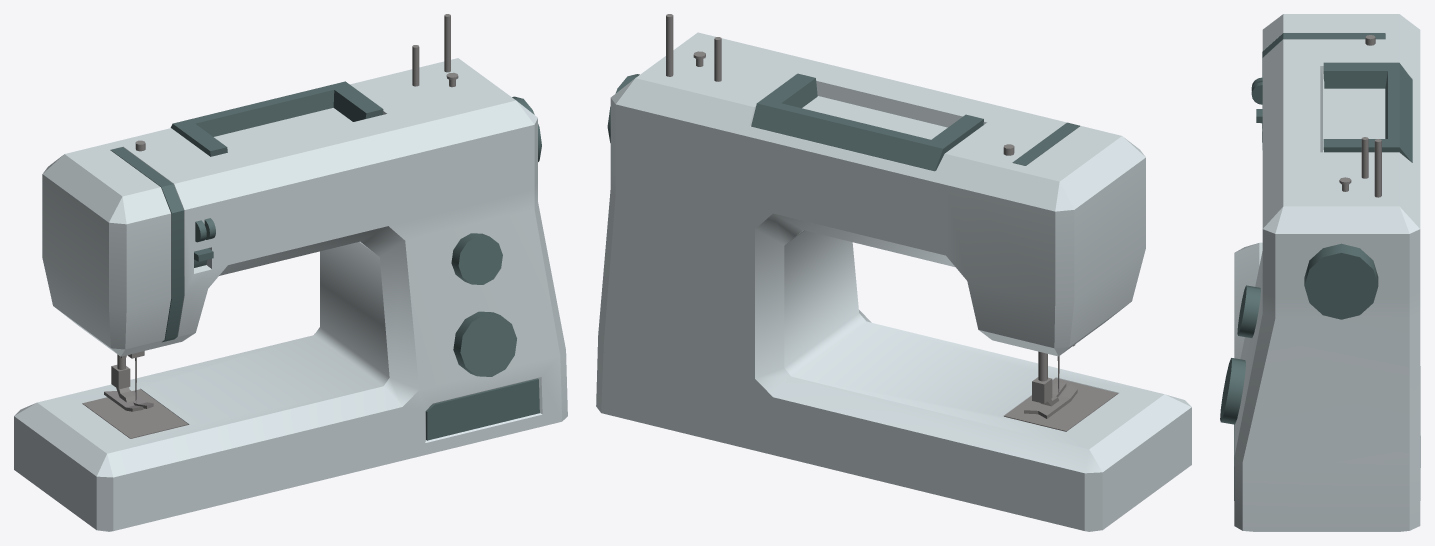
Rendered from sewing-machine-2.fbx.
3 views of the same model, side by side, from view 1: azimuth 30°, elevation 25°; view 2: azimuth 150°, elevation 25°; view 3: azimuth 270°, elevation 25° (orthographic). The views are drawn at different scales.
Visible parts, largest first — view 1: sewing-machine-2; view 2: sewing-machine-2; view 3: sewing-machine-2.
Part boxes in pixels (x1,y1,x2,y2): sewing-machine-2: (14,14,567,531); sewing-machine-2: (596,14,1191,531); sewing-machine-2: (1220,14,1420,531).
Size of the model in its own units: 89.6 by 67.34 by 32.73.
Materials: 2 (2 with a texture image).
